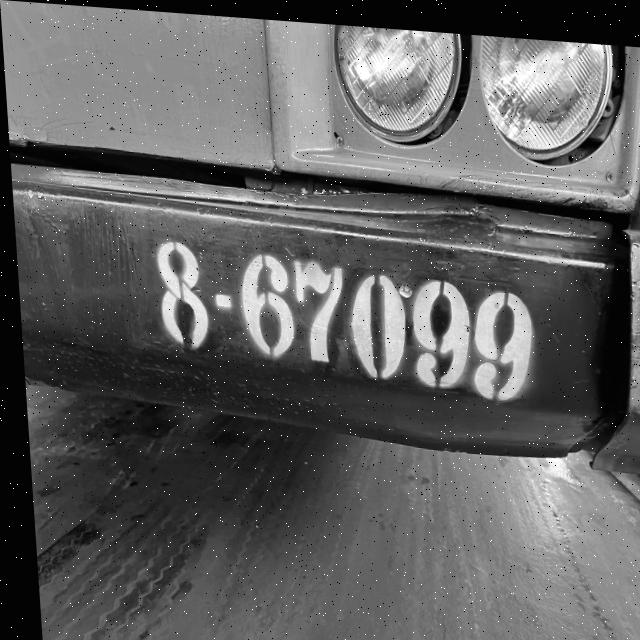BMTA-bus: (0, 0, 640, 475)
Bus Side Number: (127, 221, 547, 413)
